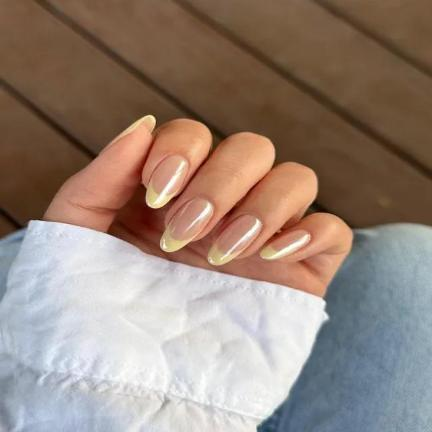Nail: (159, 199, 214, 252), (206, 215, 262, 266), (145, 155, 190, 209), (259, 230, 311, 260)
